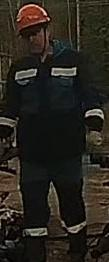gloves: (86, 125, 103, 148)
helmet: (15, 3, 51, 32)
vest: (4, 50, 88, 161)
